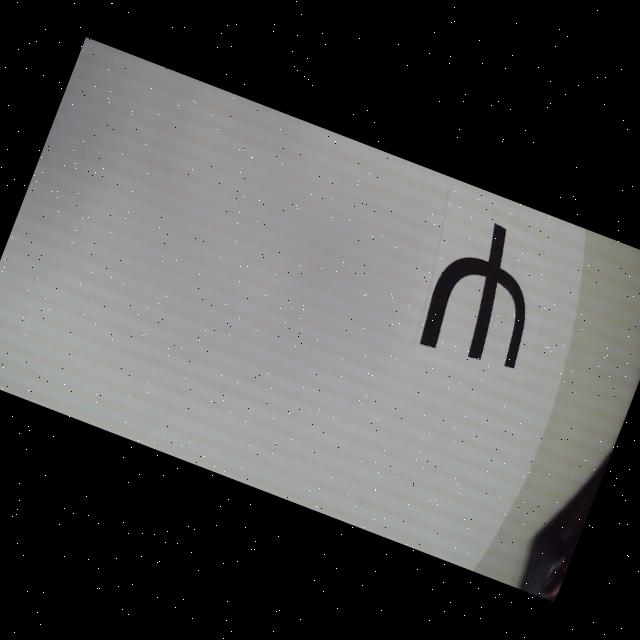PSI: (413, 210, 561, 380)
